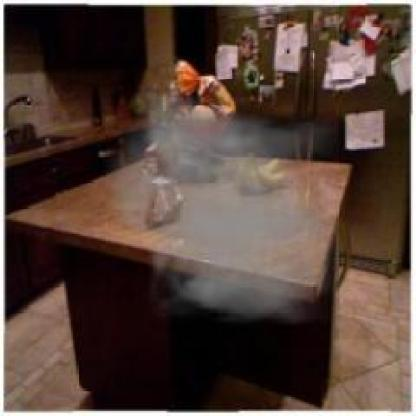Smoke: (96, 93, 339, 325)
